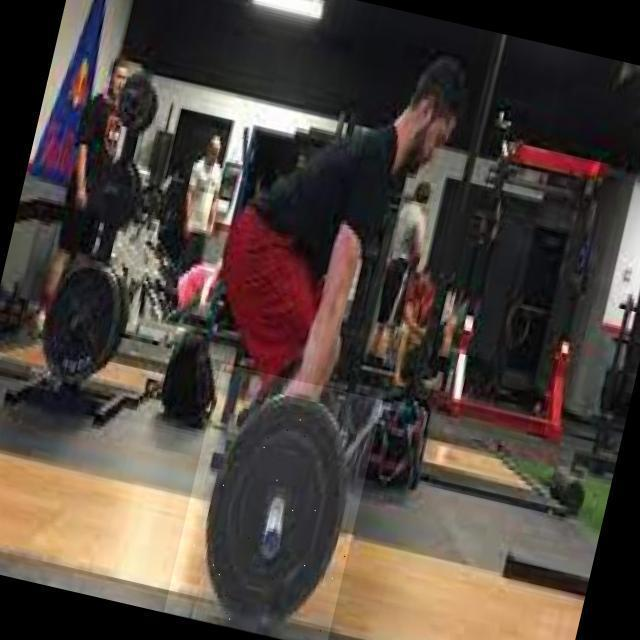barbell: (164, 363, 383, 640)
